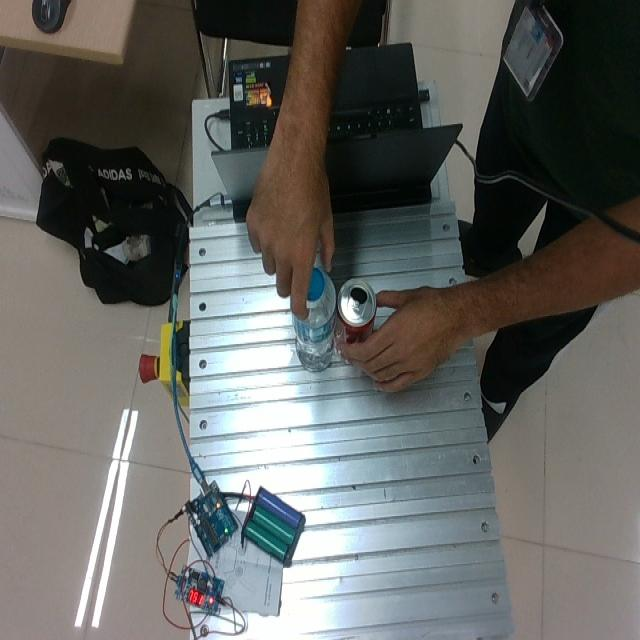coca: (335, 278, 377, 362)
lavie: (291, 267, 336, 373)
